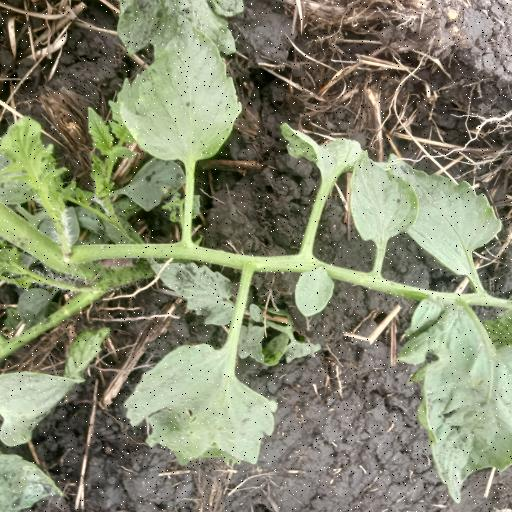Tomato_Mildiou: (100, 0, 245, 165)
